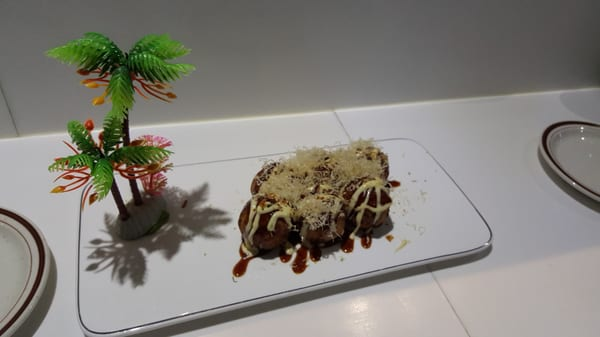soup: (234, 139, 397, 276)
